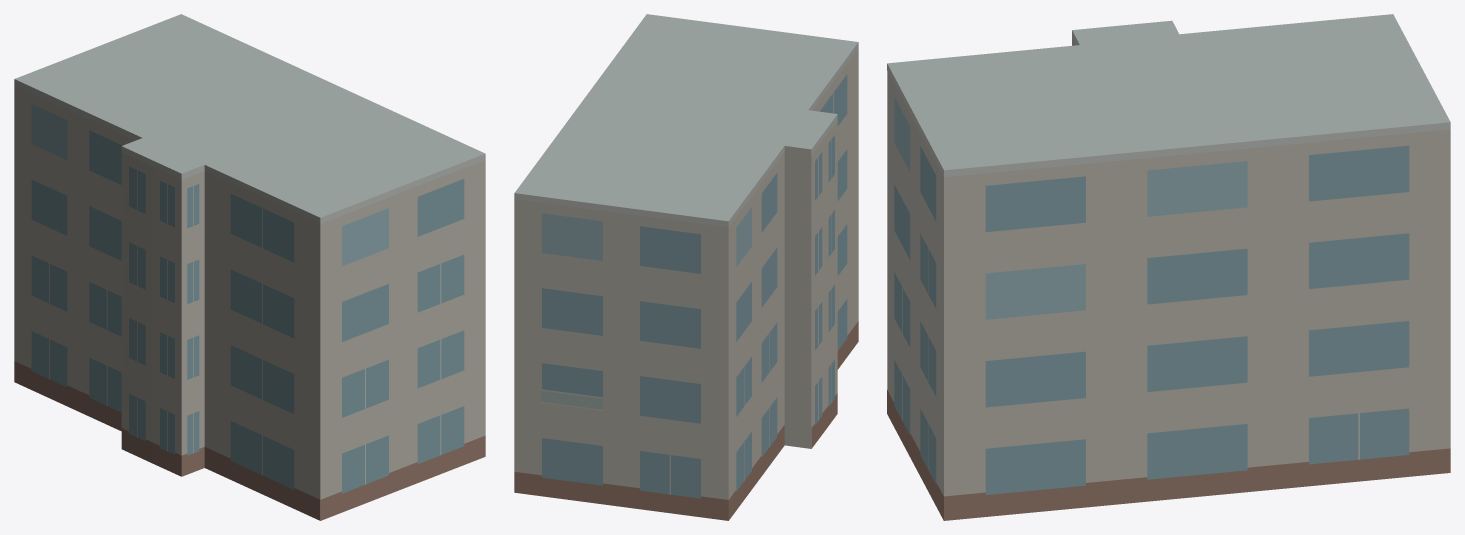
File: residential-2ef36b83-fe14-49dd-9857-ba2ee0f4ffc3.glb
The picture shows the model from 3 angles, left to right: view 1: azimuth 30°, elevation 25°; view 2: azimuth 150°, elevation 25°; view 3: azimuth 270°, elevation 25°; orthographic projection. The views are drawn at different scales.
Parts seen in each view (by area): view 1: residential-2ef36b83-fe14-49dd-9857-ba2ee0f4ffc3.tmp; view 2: residential-2ef36b83-fe14-49dd-9857-ba2ee0f4ffc3.tmp; view 3: residential-2ef36b83-fe14-49dd-9857-ba2ee0f4ffc3.tmp.
Boxes of the visible parts, <box> form: residential-2ef36b83-fe14-49dd-9857-ba2ee0f4ffc3.tmp: <box>14,14,485,520</box>; residential-2ef36b83-fe14-49dd-9857-ba2ee0f4ffc3.tmp: <box>514,14,858,520</box>; residential-2ef36b83-fe14-49dd-9857-ba2ee0f4ffc3.tmp: <box>887,14,1450,520</box>.
Bounding box in the file's own units: 11.68 × 12.2 × 17.79.
